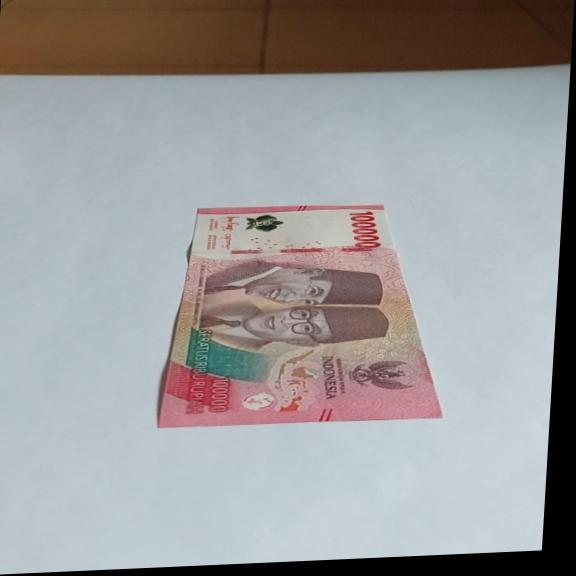Kertas: (155, 196, 457, 431)
